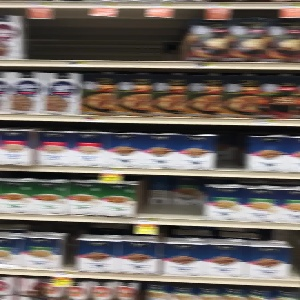void: (26, 4, 181, 65), (142, 174, 202, 220), (216, 126, 249, 172)
